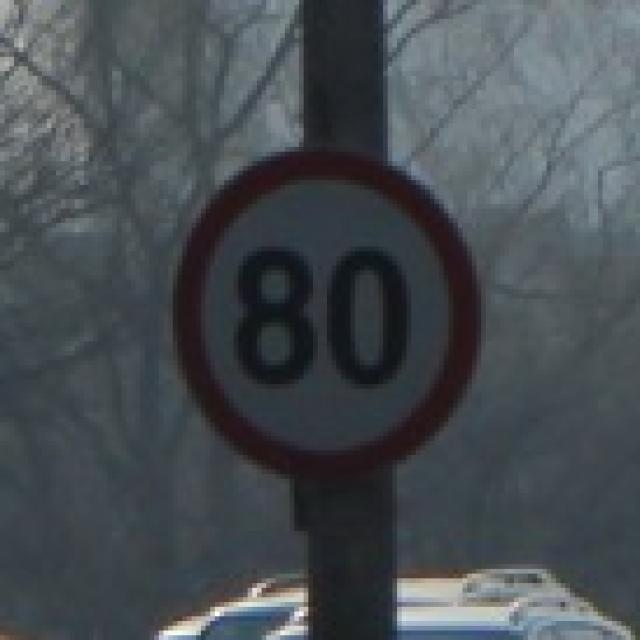Speed Limit -80-: (233, 240, 417, 389)
